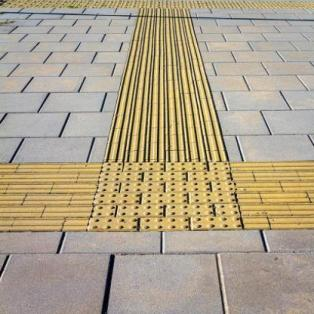Podoctatil: (0, 1, 314, 231)
